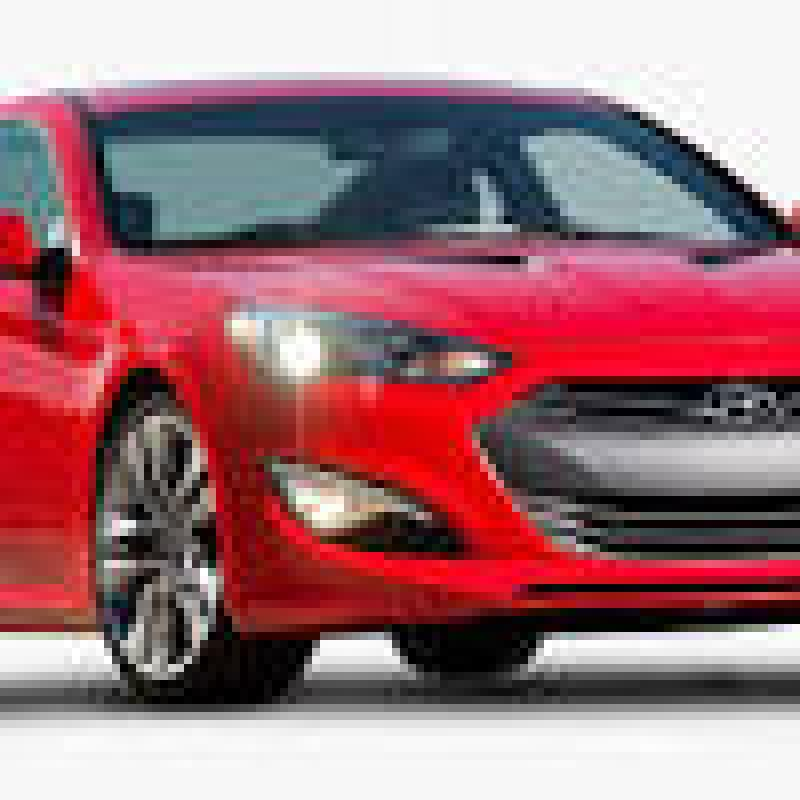car: (0, 52, 800, 684)
